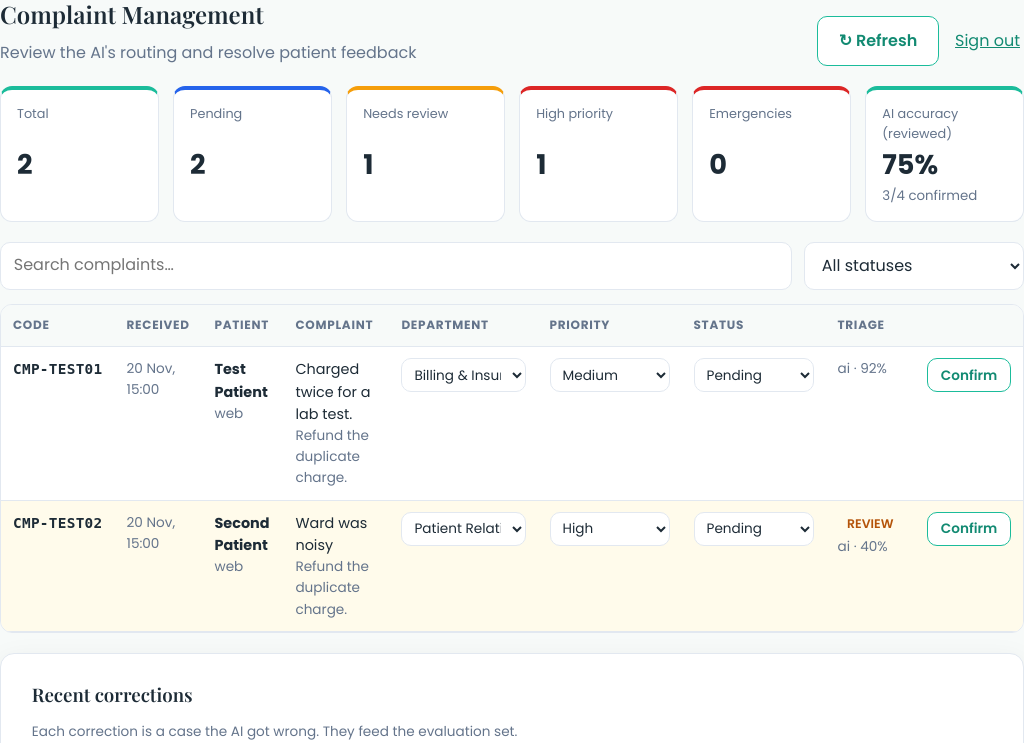
StaffDesk › confirms a row, or saves only the fields that changed
Expected: the text "Second Patient" is shown, [214,513,270,555]
Click the button "Confirm" in the row of "CMP-TEST01".
click(969, 375)  # box [927,358,1011,392]
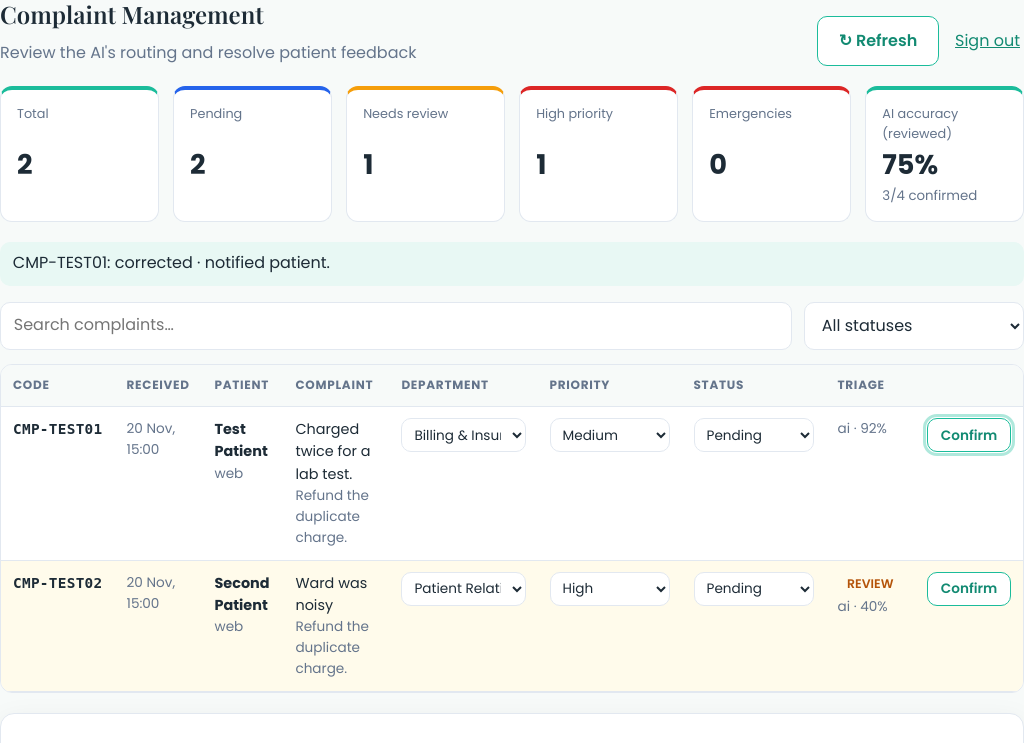
Select "Facilities & Cleanliness" in the dropdown named "Department for CMP-TEST02" at (463,589), box [401,572,526,606]
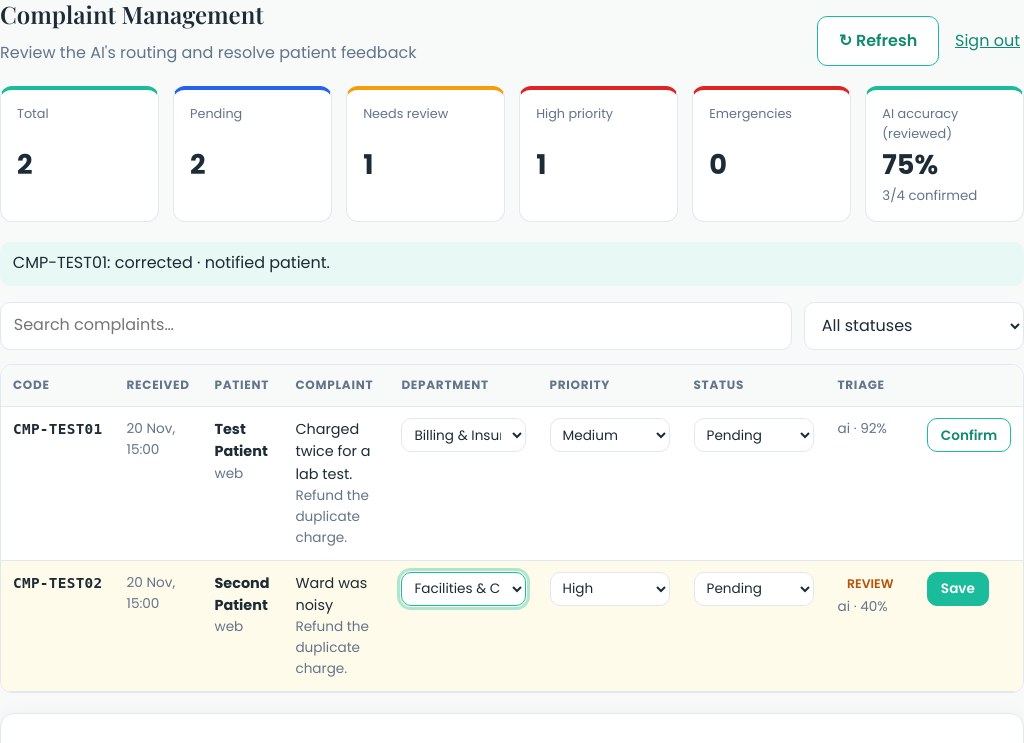
Click the button "Save".
click(958, 589)  # box [927,572,989,606]
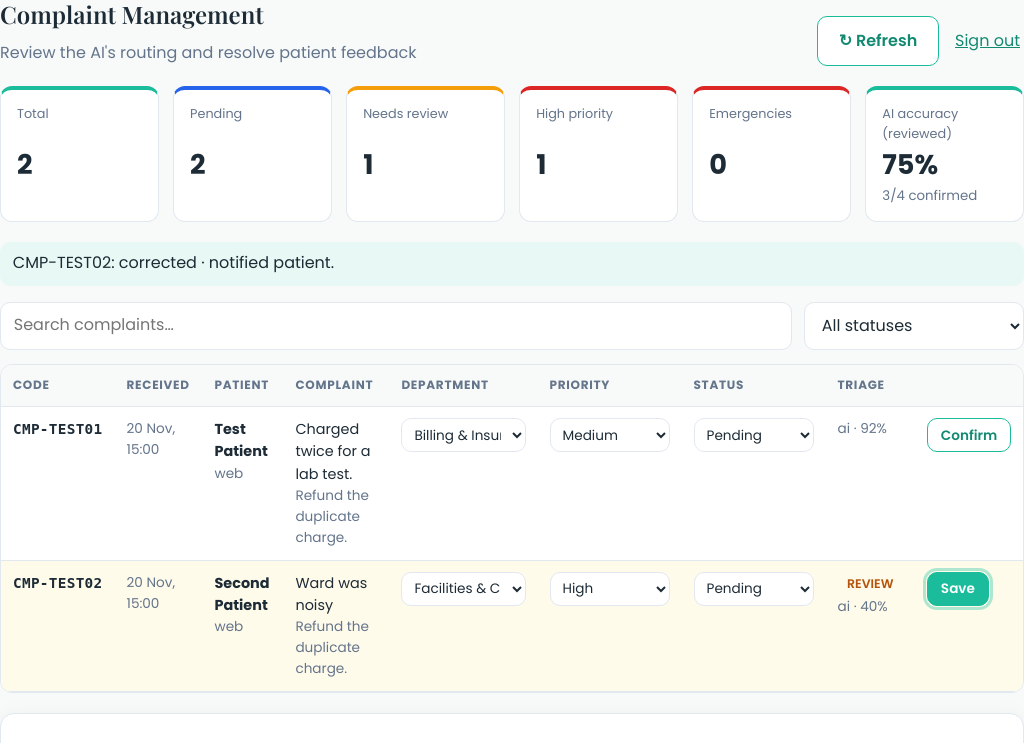
Expected: the text "CMP-TEST02: corrected · notified patient." is shown, [0,242,1023,286]
